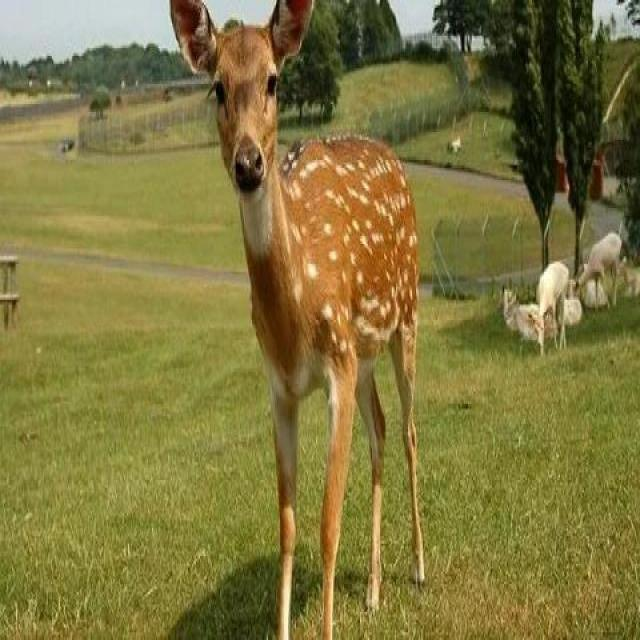deer: (163, 0, 443, 619)
